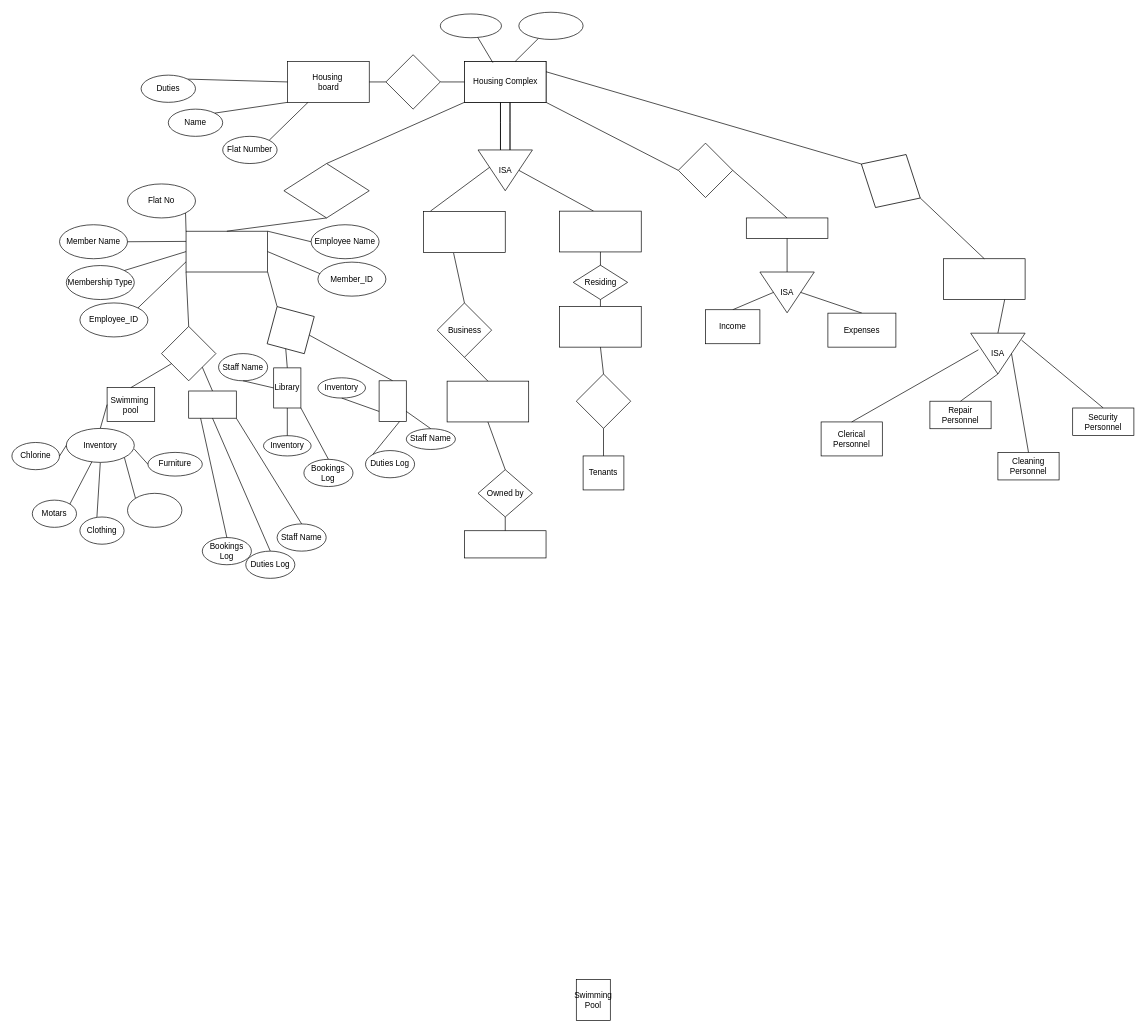
Image size: 1146x1032. Some labels were removed from this diagram. Each missing label, with the centre of its shape:
Block No: the point at 471,25
Clubhouse: the point at 226,251
Commercial Property: the point at 464,231
Contracts: the point at 890,181
Entertainment: the point at 326,190
Equipment: the point at 154,510
Finances: the point at 787,227
Games Area: the point at 212,404
Gym: the point at 392,401
Handles: the point at 705,170
Indoor Activities: the point at 290,329
Manages: the point at 412,81
Outdoor activities: the point at 188,353
Owner: the point at 600,326
Property ID: the point at 550,25
Rents to: the point at 603,400
Resedential property: the point at 600,231
Shop Owner: the point at 505,544
Shops: the point at 487,401
Workforce: the point at 984,279
